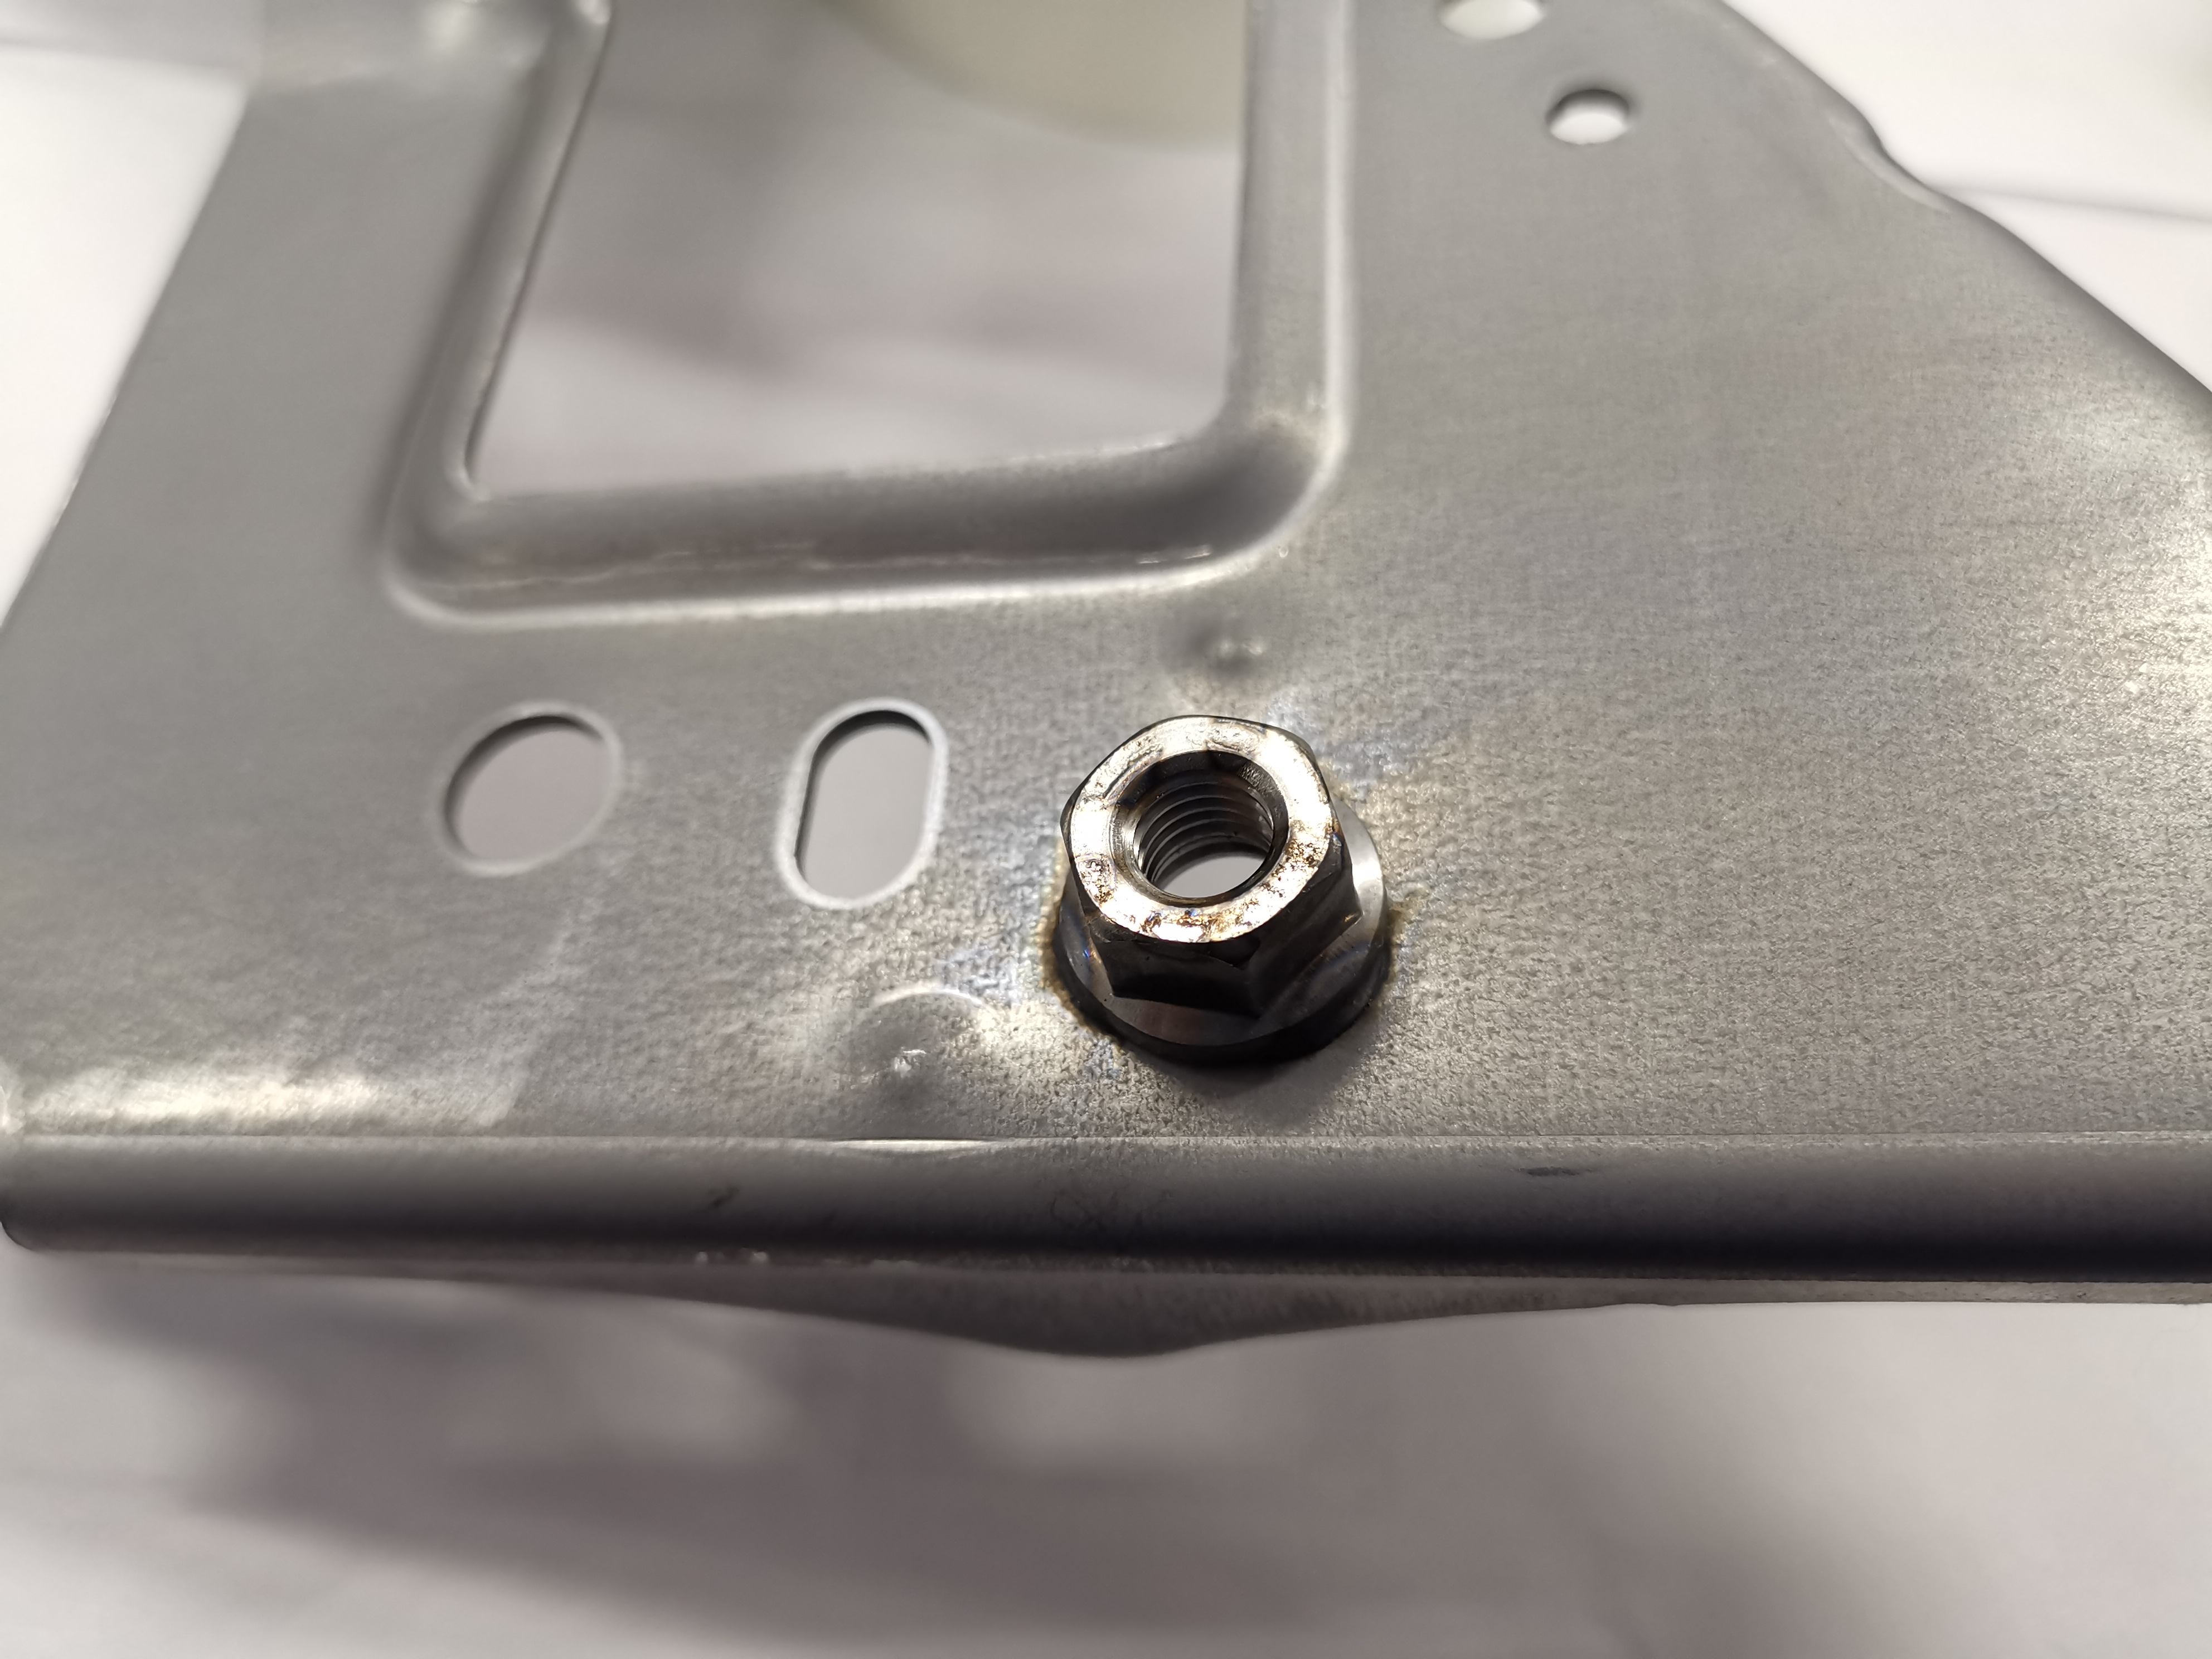dog: (1040, 706, 1402, 1080)
